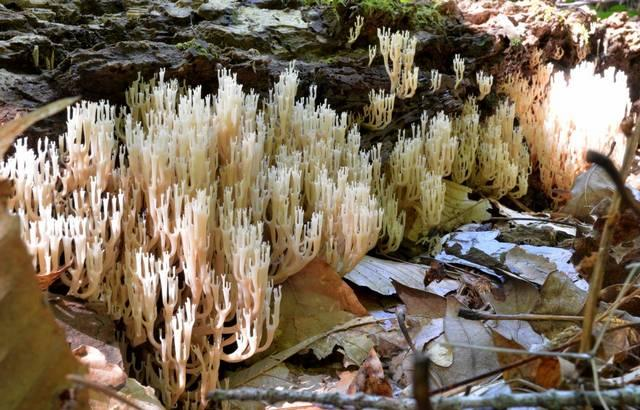Edible Mushroom: (1, 23, 533, 407)
